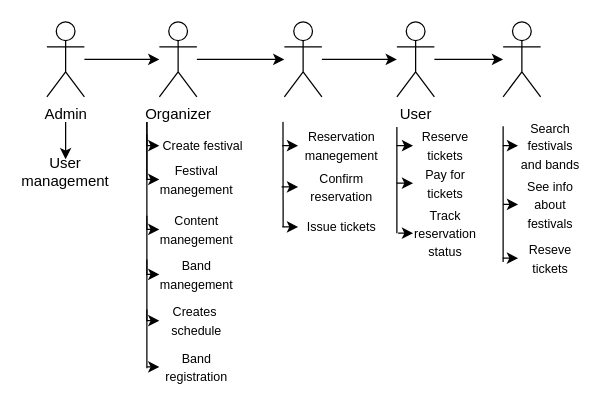
This 604x406 diagram has some shape labels left out. Here are the shapes that lost their labels. From the top down, the box of each, then its label:
(283, 21, 322, 97): Seller
(502, 21, 541, 97): Person
